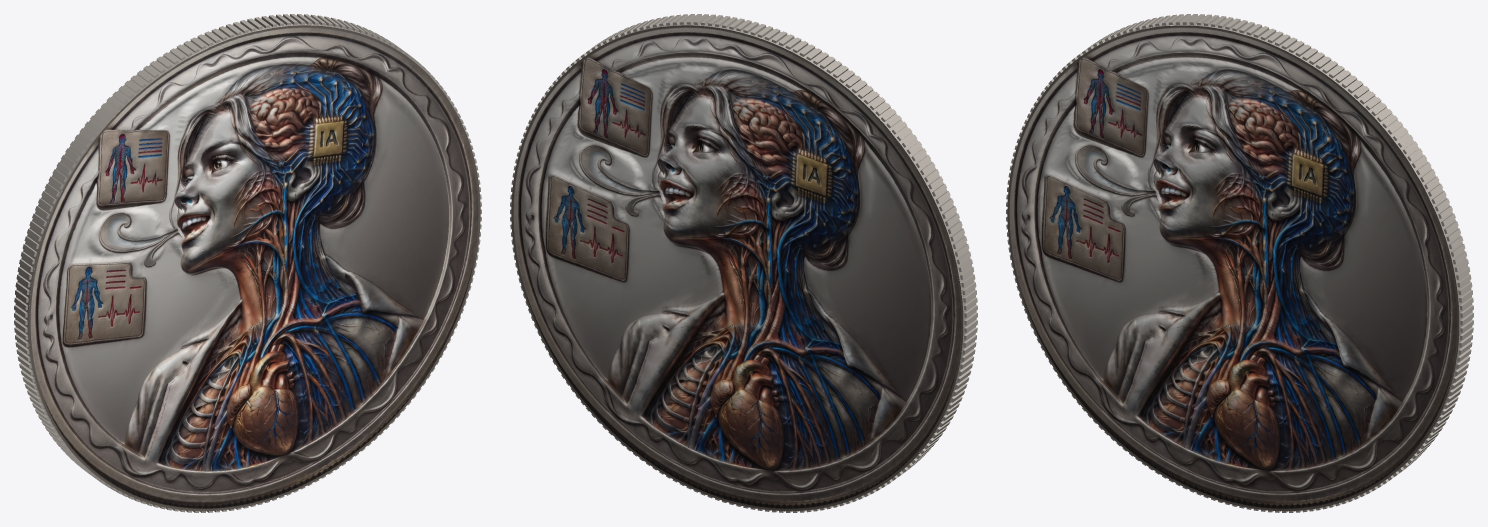
File: moeda-ia.glb
3 renders of one model, left to right at view 1: azimuth 30°, elevation 25°; view 2: azimuth 150°, elevation 25°; view 3: azimuth 330°, elevation 25°, orthographic.
Visible parts, largest first — view 1: frente, corpo; view 2: frente, corpo; view 3: frente, corpo.
Part boxes in pixels (box(x1,y1,x2,y2)): frente: box(28, 25, 480, 511); corpo: box(14, 14, 481, 512); frente: box(511, 25, 963, 511); corpo: box(510, 14, 977, 512); frente: box(1007, 25, 1459, 511); corpo: box(1006, 14, 1473, 512).
Size of the model in its own units: 2.01 by 2.01 by 0.1342.
2 materials, 1 textured.
